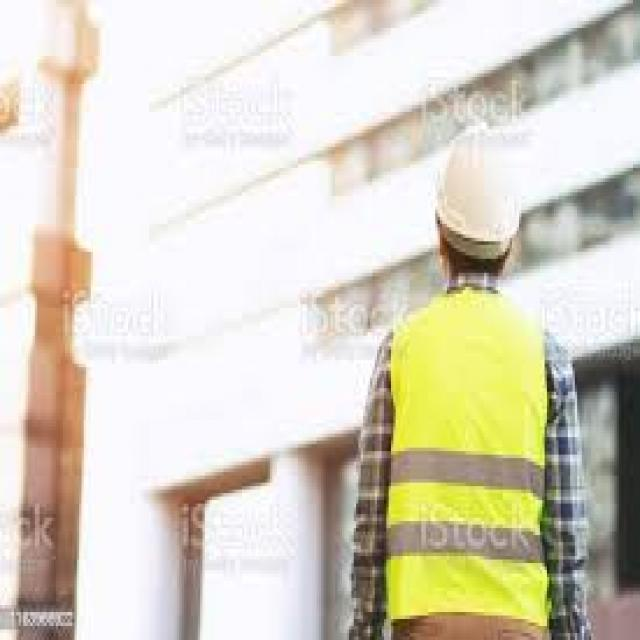Reflective-Jacket: (366, 273, 566, 486)
Safety-Helmet: (419, 116, 538, 270)
